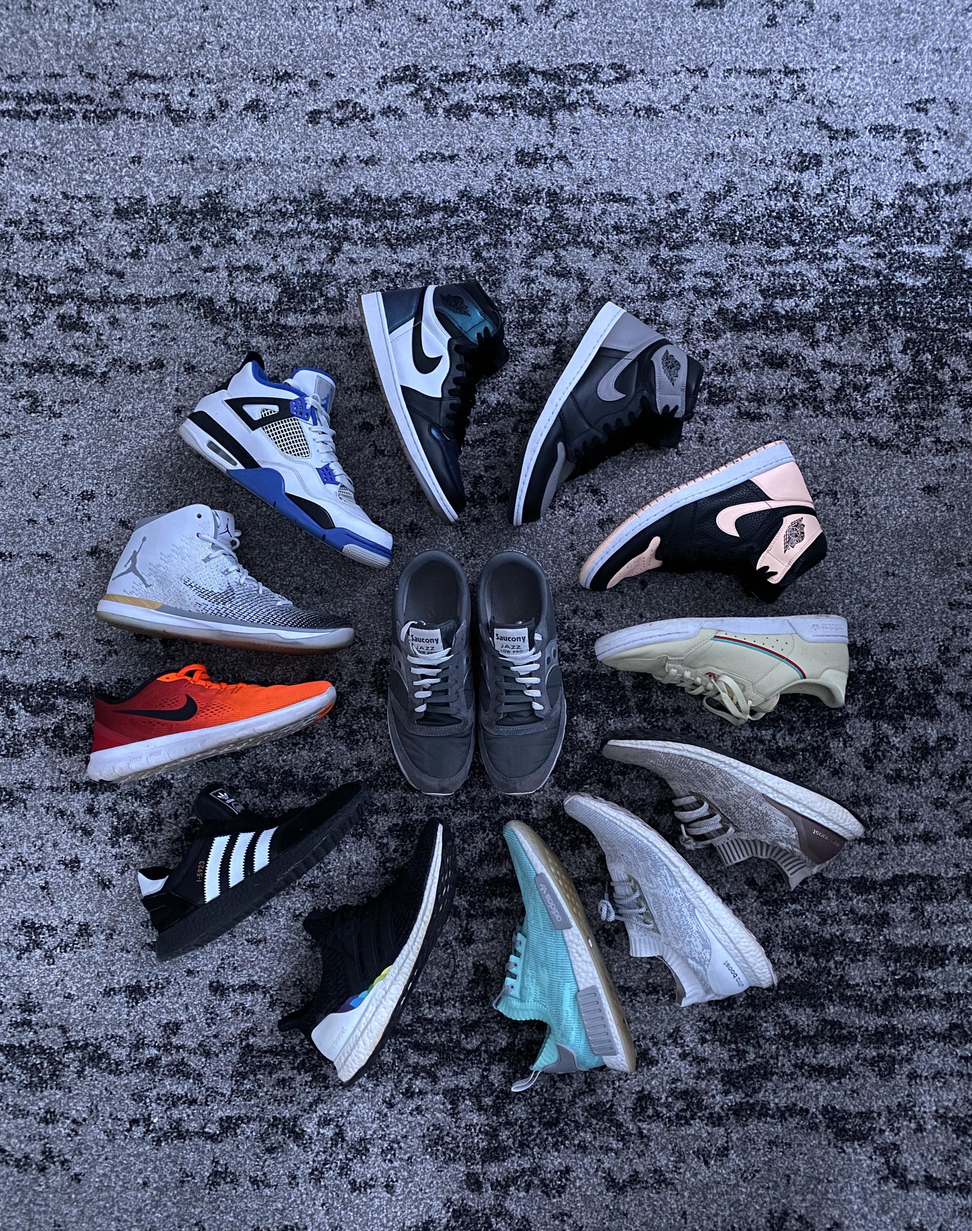sneaker: (123, 746, 390, 973), (166, 330, 400, 587), (538, 785, 784, 1023), (459, 808, 648, 1112), (493, 294, 714, 548), (279, 805, 463, 1102), (585, 726, 880, 901), (569, 436, 843, 617), (84, 495, 367, 666), (351, 267, 522, 531), (77, 640, 351, 802), (578, 607, 860, 752), (371, 528, 489, 822), (466, 535, 579, 831)
